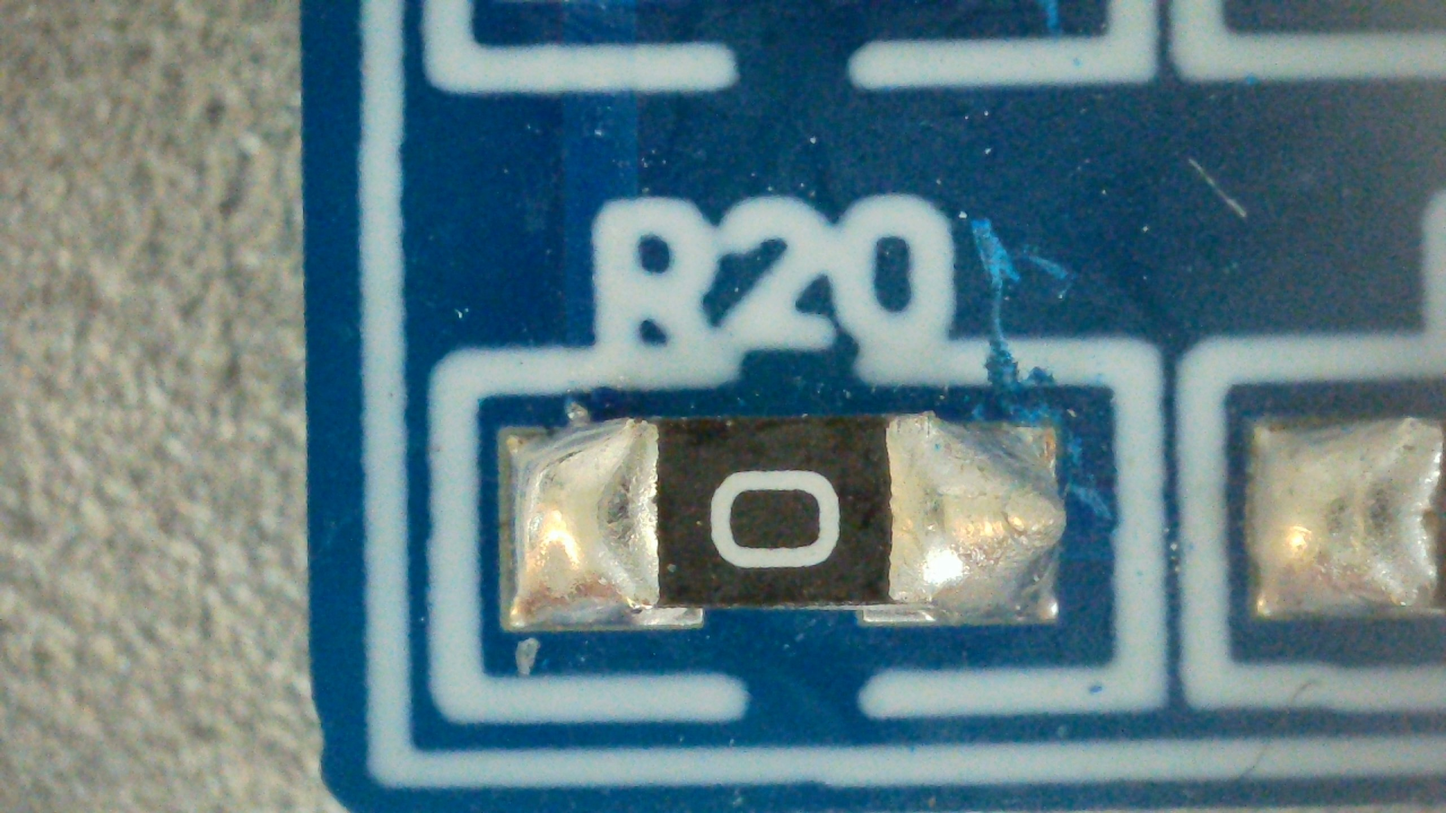OK: (500, 398, 1068, 629)
